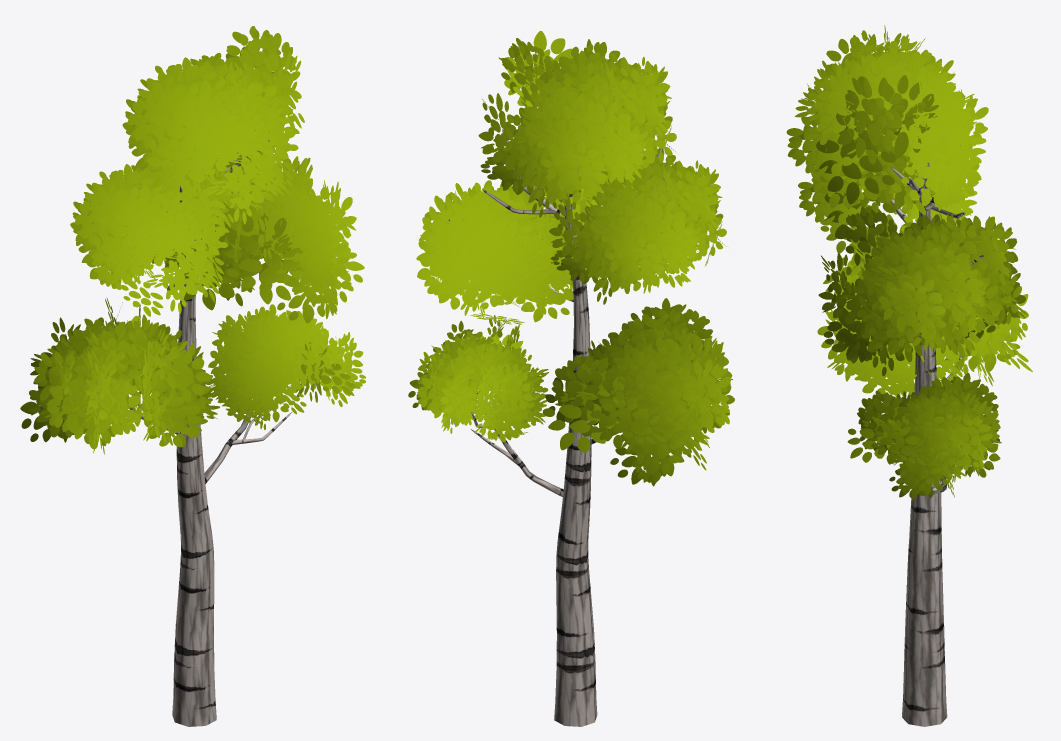
Rendered from birch.glb.
3 views of the same model, side by side, from view 1: azimuth 30°, elevation 25°; view 2: azimuth 150°, elevation 25°; view 3: azimuth 270°, elevation 25° (orthographic). The views are drawn at different scales.
Visible parts, largest first — view 1: BirchTree_1; view 2: BirchTree_1; view 3: BirchTree_1.
Part boxes in pixels (left/top/right/bottom): BirchTree_1: left=20, top=26, right=365, bottom=726; BirchTree_1: left=408, top=31, right=734, bottom=726; BirchTree_1: left=786, top=25, right=1032, bottom=726.
Bounding box in the file's own units: 2.73 × 5.5 × 1.96.
2 materials, 2 textured.
